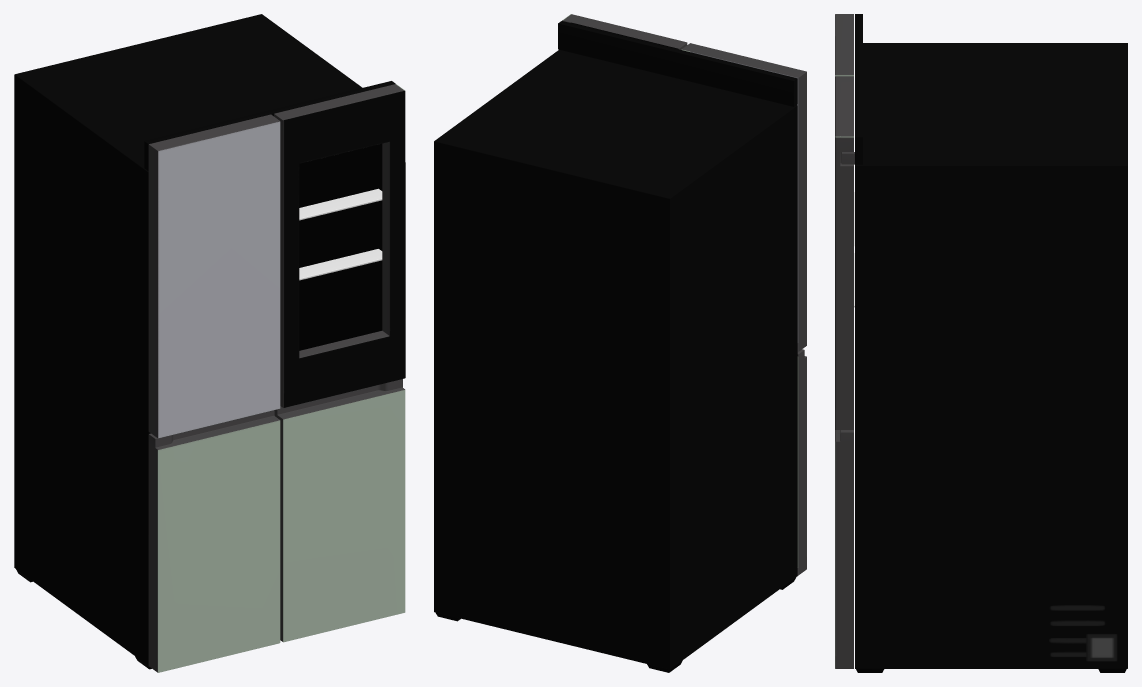
The model's file is electronic_64_03.001.fbx.
3 views of the same model, side by side, from view 1: azimuth 30°, elevation 25°; view 2: azimuth 150°, elevation 25°; view 3: azimuth 270°, elevation 25° (orthographic). The views are drawn at different scales.
Parts seen in each view (by area): view 1: electronic_64_03.001; view 2: electronic_64_03.001; view 3: electronic_64_03.001.
Part boxes in pixels (<box>): electronic_64_03.001: <box>14,14,405,672</box>; electronic_64_03.001: <box>434,14,806,672</box>; electronic_64_03.001: <box>835,14,1127,672</box>.
Bounding box in the file's own units: 91.4 × 186 × 91.84.
1 material, 1 textured.
